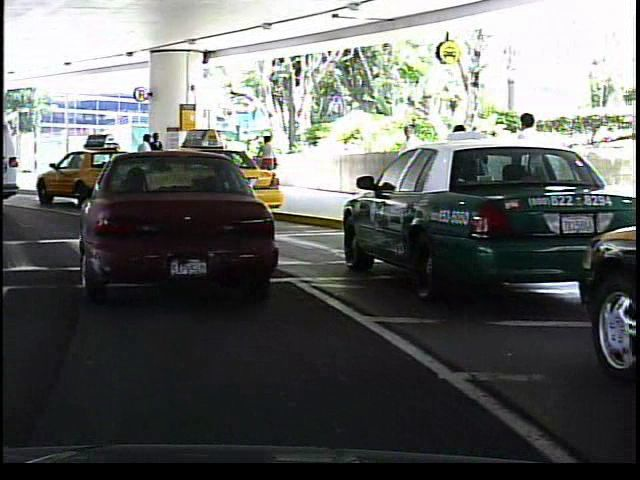person: (440, 114, 491, 227), (508, 107, 554, 231), (393, 119, 428, 206), (257, 133, 280, 192), (134, 132, 155, 188), (149, 129, 167, 188)
